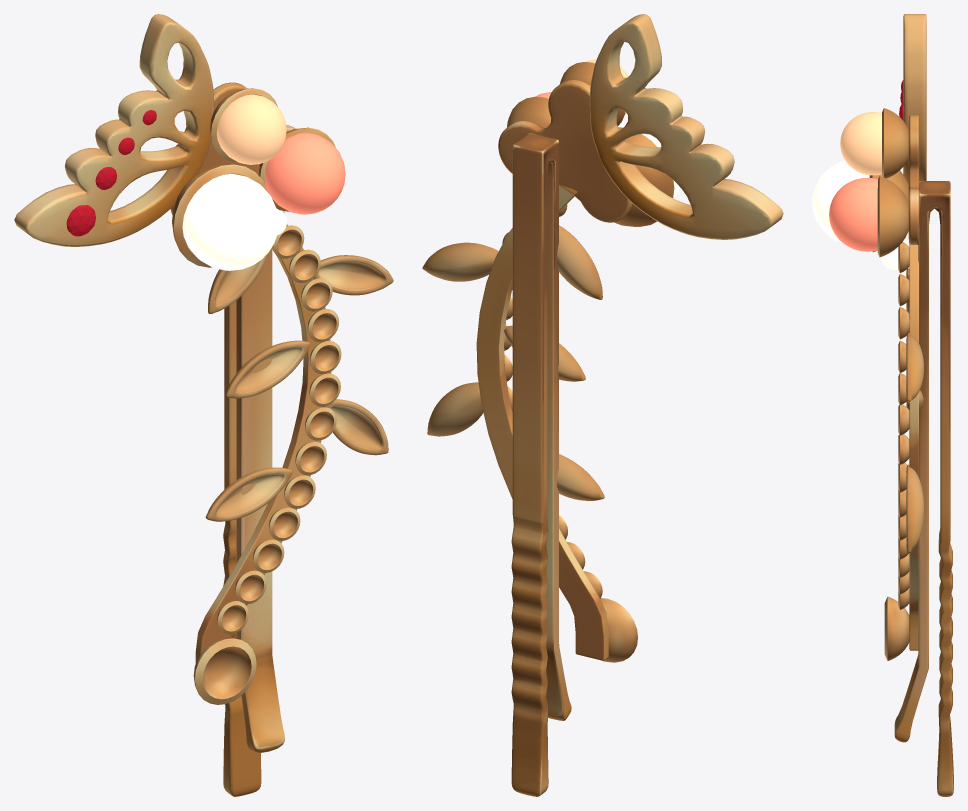
3 renders of one model, left to right at view 1: azimuth 30°, elevation 25°; view 2: azimuth 150°, elevation 25°; view 3: azimuth 270°, elevation 25°, orthographic. The views are drawn at different scales.
Visible parts, largest first — view 1: hairakuse; view 2: hairakuse; view 3: hairakuse.
Boxes of the visible parts, x1,y1,x2,y2 form: hairakuse: (14, 14, 393, 796); hairakuse: (422, 14, 783, 796); hairakuse: (812, 14, 953, 796).
Size of the model in its own units: 72.64 by 152 by 26.6.
